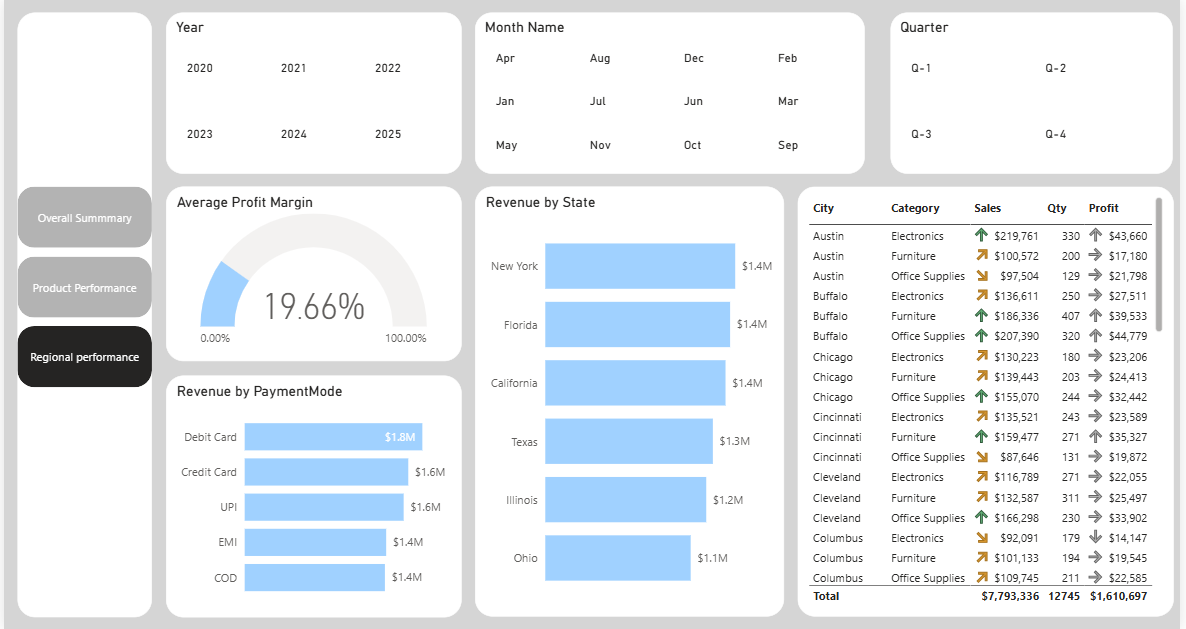

The page's visual inventory and layout, read from the dashboard file:
{"tool":"powerbi","page":{"name":"Regional performance","canvas":[1400,750],"ordinal":2},"visuals":[{"type":"textbox","box":[16,16,160,720],"z":0},{"type":"tableEx","fields":{"Values":["Sales Dataset.City","Sales Dataset.Category","Sum(Sales Dataset.Sales)","Sum(Sales Dataset.Quantity)","Sum(Sales Dataset.Profit)"]},"box":[944,224,448,512],"z":1000},{"type":"clusteredBarChart","title":"Revenue by State","fields":{"Y":["Sum(Sales Dataset.Sales)"],"Category":["Sales Dataset.State"]},"box":[560,224,368,512],"z":2000},{"type":"advancedSlicerVisual","fields":{"Values":["Date Table.Year"]},"box":[192,16,352,192],"z":3000},{"type":"advancedSlicerVisual","fields":{"Values":["Date Table.Month Name"]},"box":[560,16,464,192],"z":4000},{"type":"advancedSlicerVisual","fields":{"Values":["Date Table.Quarter"]},"box":[1056,16,336,192],"z":5000},{"type":"pageNavigator","box":[16,224,160,240],"z":6000},{"type":"barChart","fields":{"Y":["Sales Dataset.Revenue"],"Category":["Sales Dataset.PaymentMode"]},"box":[192,448,352,288],"z":7000},{"type":"gauge","title":"Average Profit Margin","fields":{"Y":["Avg(Sales Dataset.Profit_Margin)"]},"box":[192,224,352,208],"z":8000}]}

Visuals, with their boxes in screenshot pixels (x1, y1, x2, y2), scaled from the page's 1400x750 canvas onto the 1186x629 screenshot:
textbox: x1=14 y1=13 x2=149 y2=617
tableEx - Sales Dataset.City x Sales Dataset.Category: x1=800 y1=188 x2=1179 y2=617
"Revenue by State" clusteredBarChart: x1=474 y1=188 x2=786 y2=617
advancedSlicerVisual - Date Table.Year: x1=163 y1=13 x2=461 y2=174
advancedSlicerVisual - Date Table.Month Name: x1=474 y1=13 x2=867 y2=174
advancedSlicerVisual - Date Table.Quarter: x1=895 y1=13 x2=1179 y2=174
pageNavigator: x1=14 y1=188 x2=149 y2=389
barChart - Sales Dataset.Revenue x Sales Dataset.PaymentMode: x1=163 y1=376 x2=461 y2=617
"Average Profit Margin" gauge: x1=163 y1=188 x2=461 y2=362
